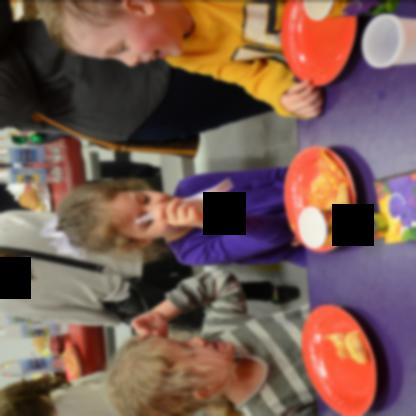handbag: (0, 245, 205, 331), (28, 109, 208, 161)
